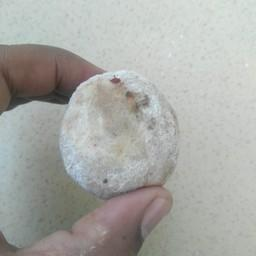Bad_lime: (61, 67, 179, 196)
